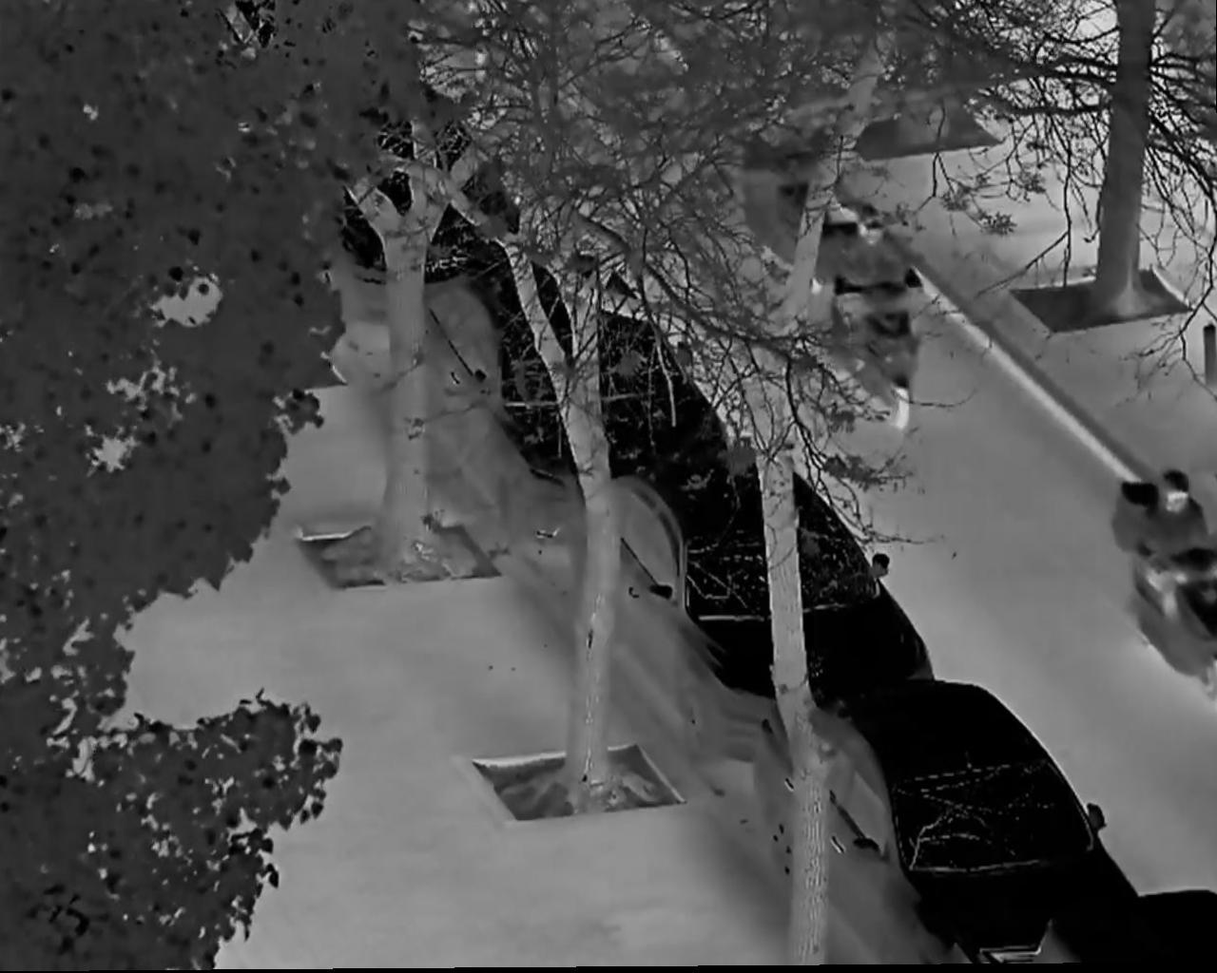person: (841, 210, 924, 356), (1139, 464, 1214, 619)
